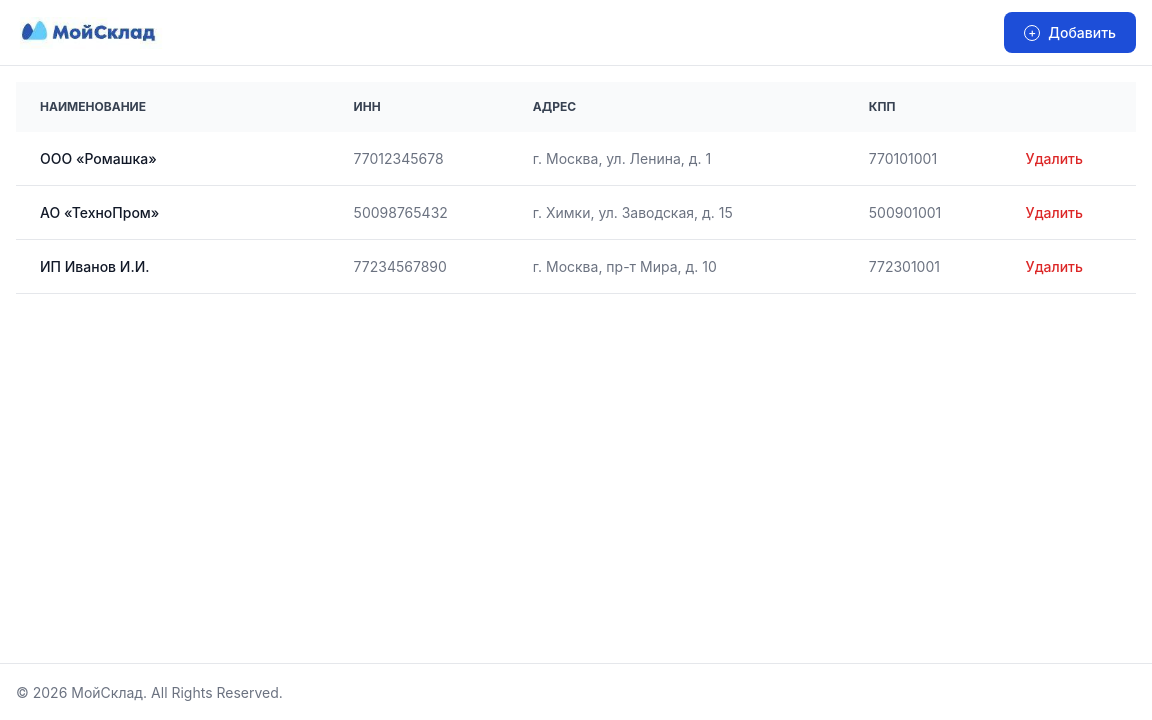
Scenario: App › adds a contragent through the modal
Expected: the column heading "ООО «Ромашка»" is shown, [16,132,330,186]
Click the button "+ Добавить": coordinates (1070, 32) [1004,12,1136,53]
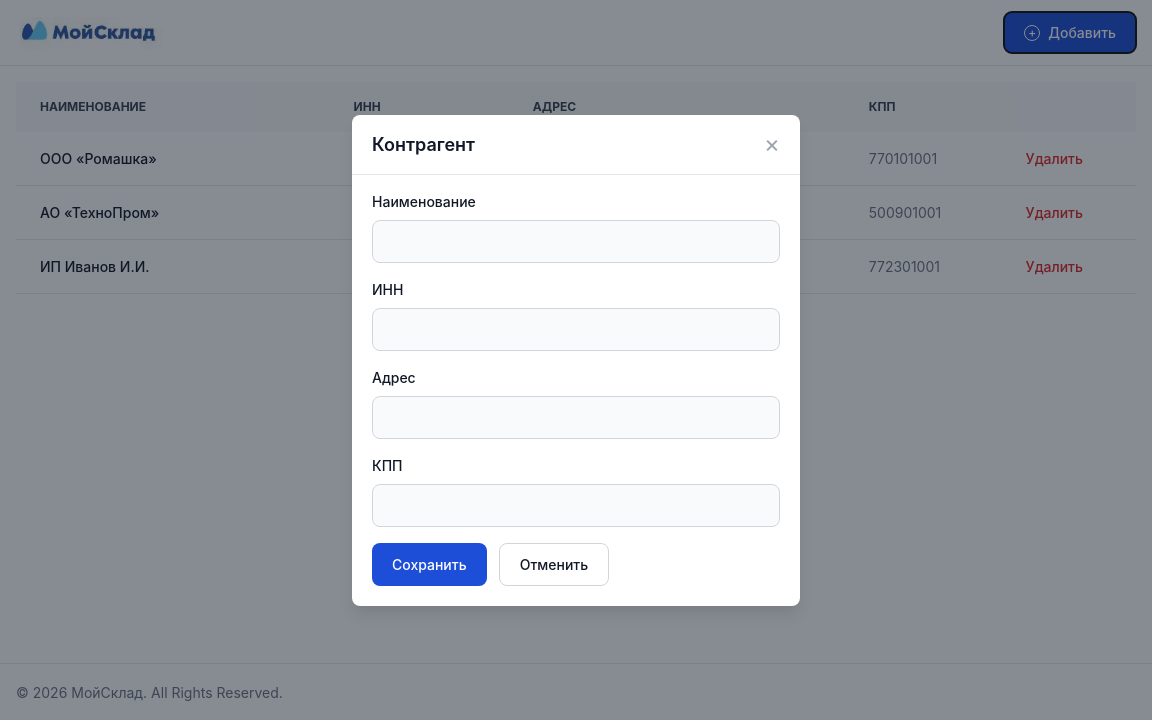
In the field labelled "Наименование": coordinates (576, 241) [372,220,780,262], type "ООО Новый"
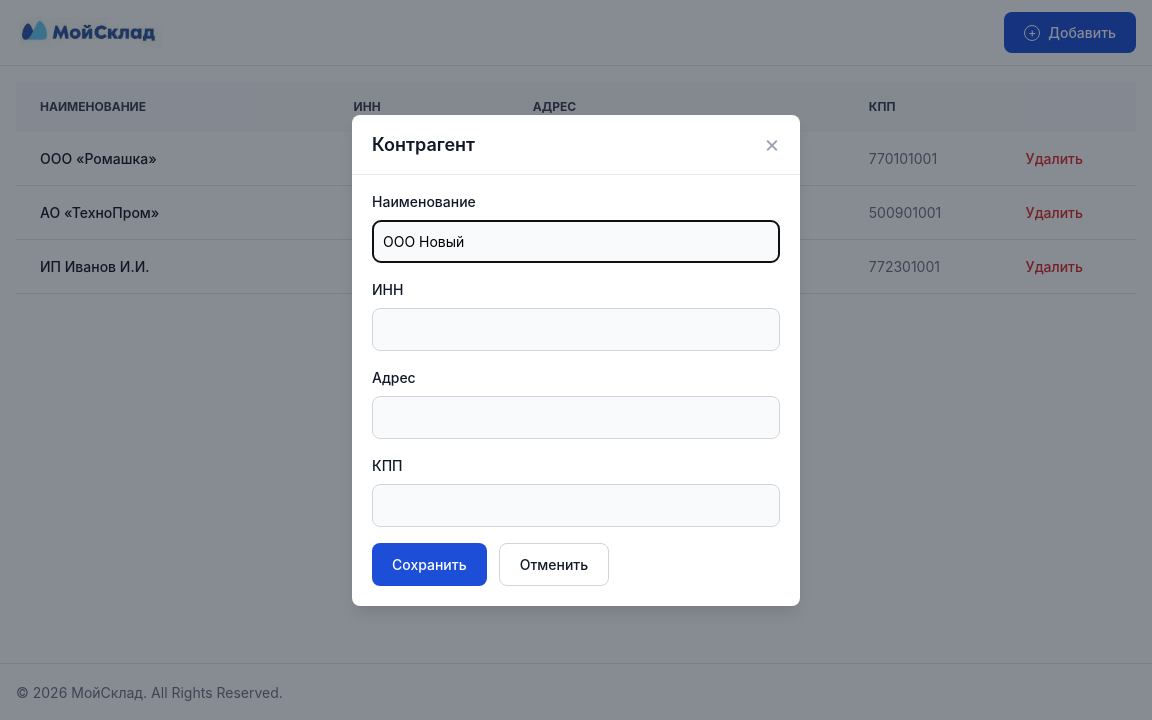
In the field labelled "ИНН": coordinates (576, 329) [372,308,780,350], type "12345678901"
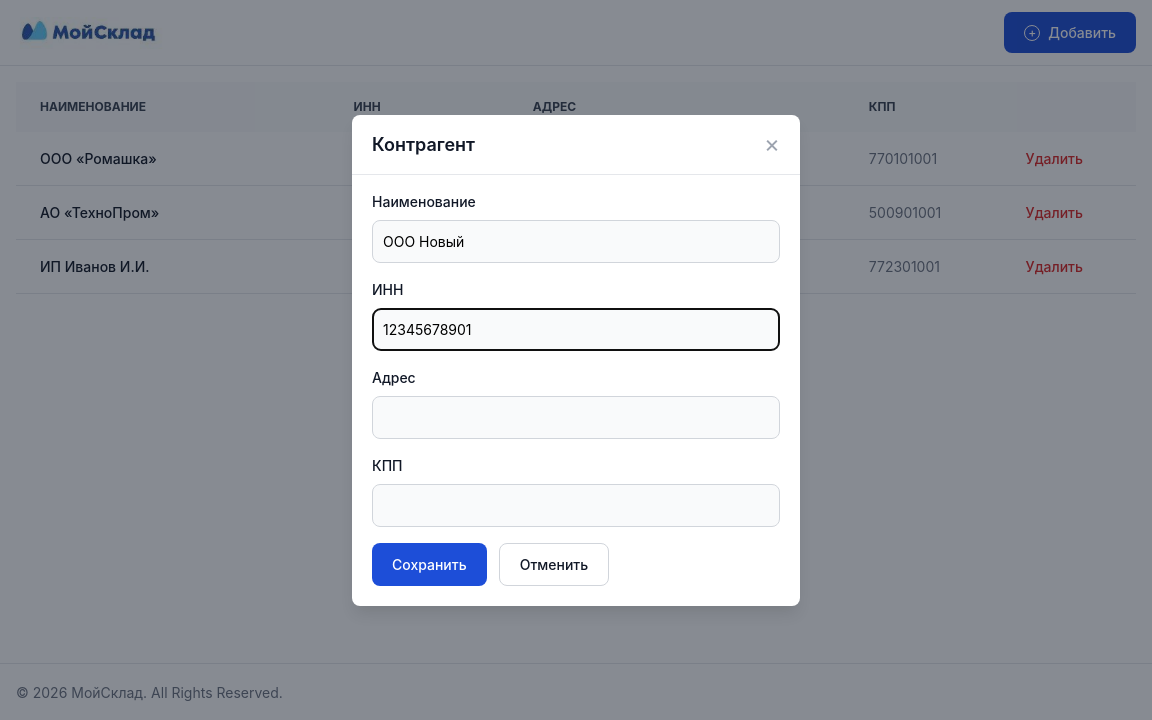
In the field labelled "Адрес": coordinates (576, 417) [372,396,780,438], type "Санкт-Петербург"
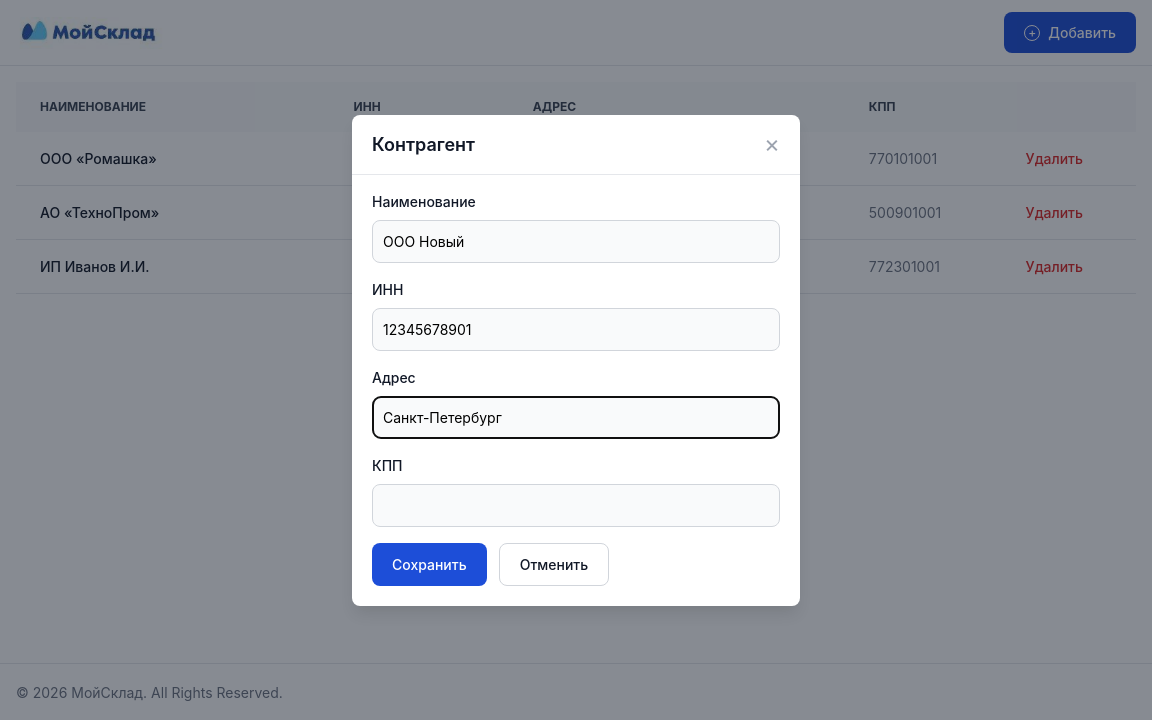
In the field labelled "КПП": coordinates (576, 505) [372,484,780,526], type "123456789"
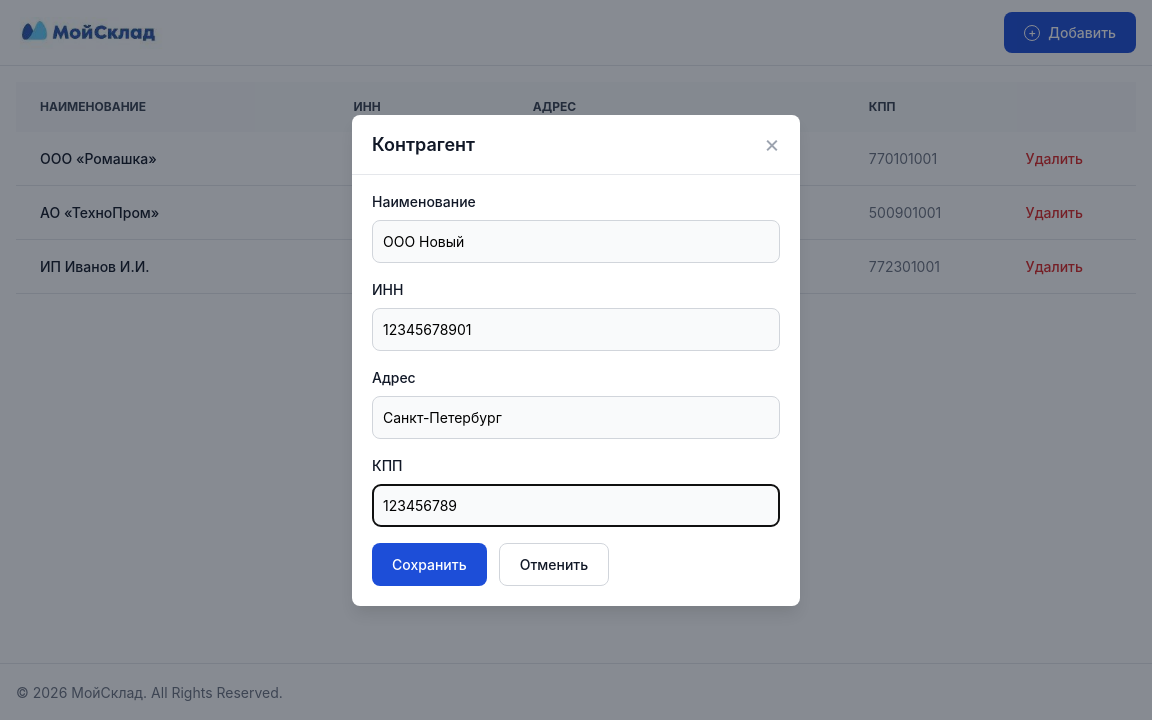
Click the button "Сохранить": coordinates (429, 564) [372,542,487,586]
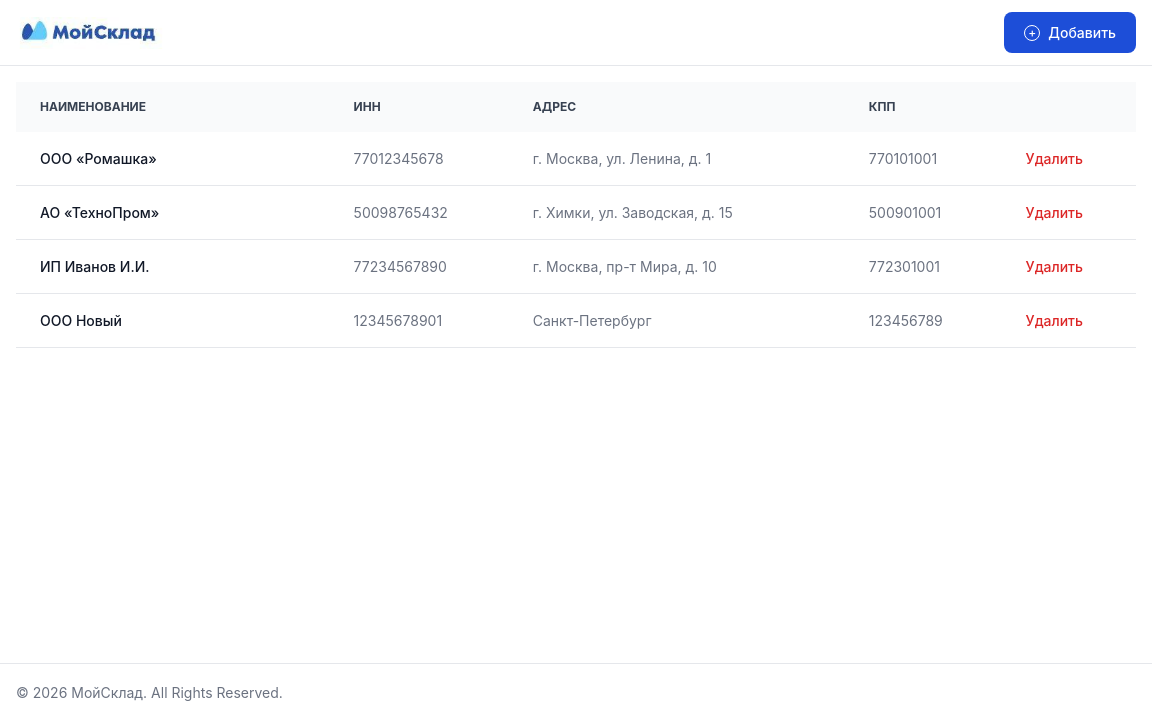
Expected: the column heading "ООО Новый" is shown, [16,294,330,348]
Expected: the heading "Контрагент" is gone
